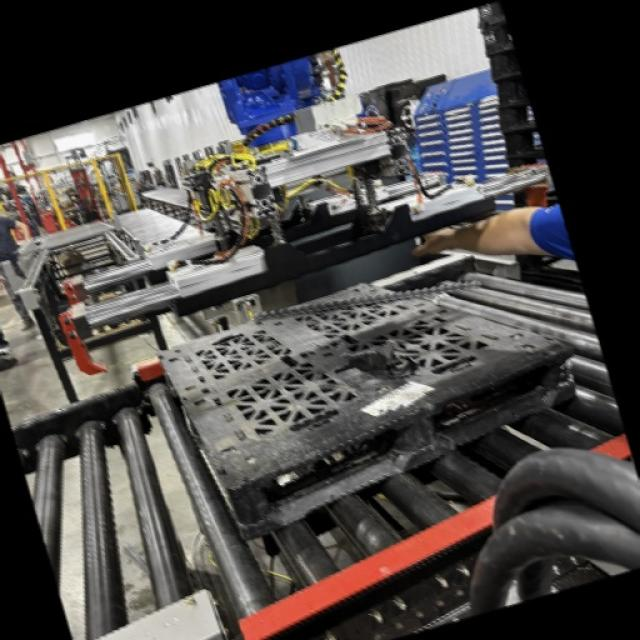igps: (151, 273, 587, 547)
